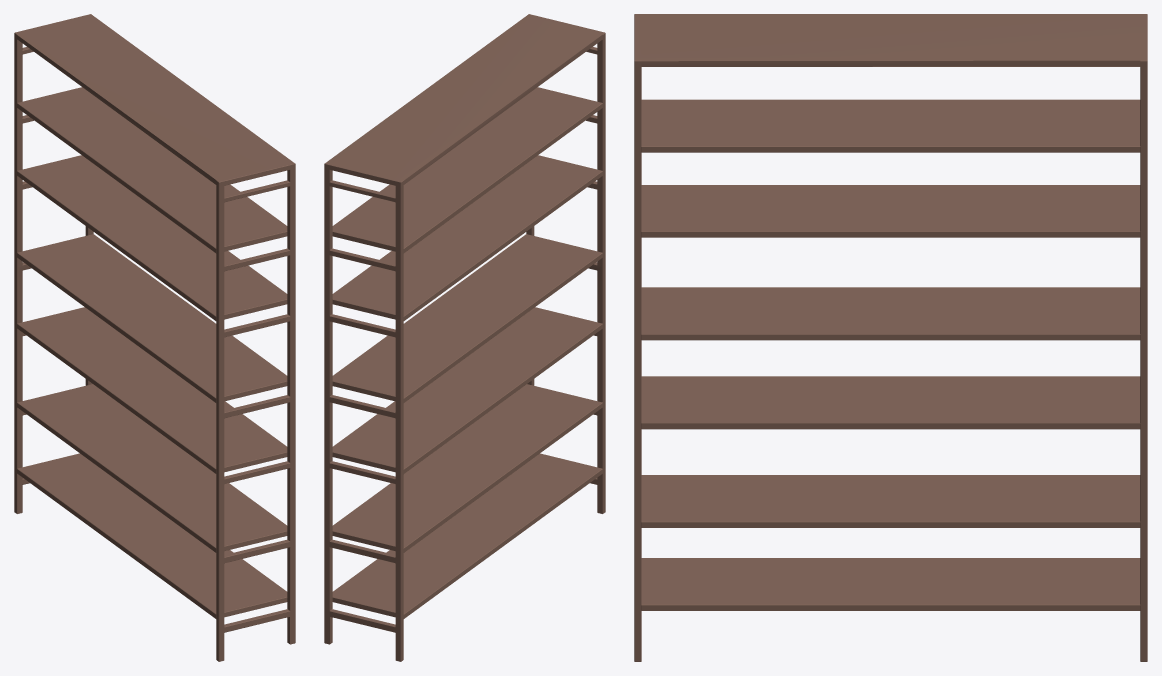
The model's file is SM_Shelves_SM_Shelves.fbx.
The picture shows the model from 3 angles, left to right: view 1: azimuth 30°, elevation 25°; view 2: azimuth 150°, elevation 25°; view 3: azimuth 270°, elevation 25°; orthographic projection. The views are drawn at different scales.
Visible parts, largest first — view 1: SM_Shelves_SM_Shelves; view 2: SM_Shelves_SM_Shelves; view 3: SM_Shelves_SM_Shelves.
Part boxes in pixels (<box>): SM_Shelves_SM_Shelves: <box>14,14,295,661</box>; SM_Shelves_SM_Shelves: <box>324,14,605,661</box>; SM_Shelves_SM_Shelves: <box>634,14,1147,661</box>.
Size of the model in its own units: 50.29 by 232 by 300.
Materials: 1 (1 with a texture image).
